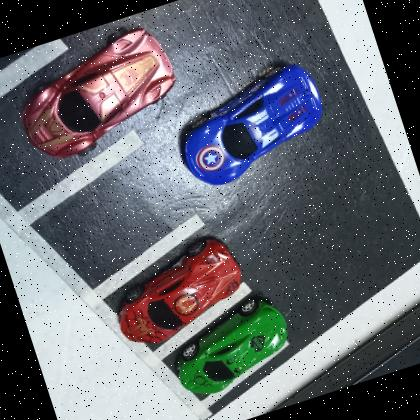Car: (2, 19, 190, 170), (162, 55, 340, 196), (100, 228, 256, 354), (162, 292, 301, 404)
